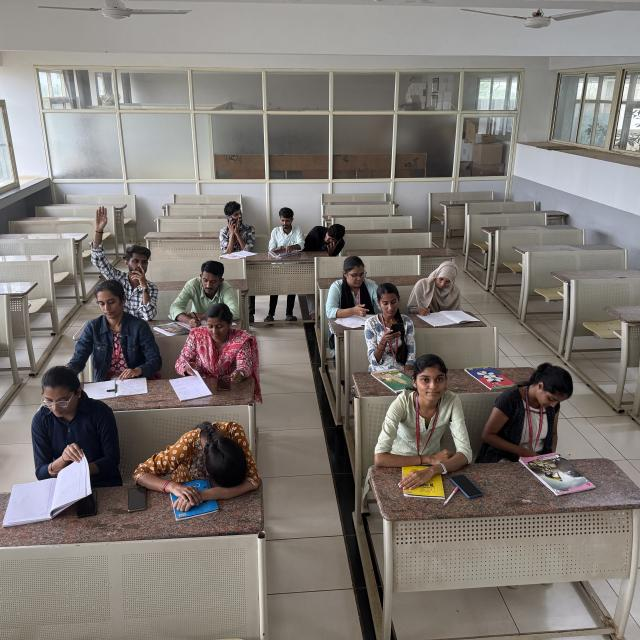Hand Rising: (88, 205, 157, 306)
Reading: (3, 368, 102, 492)
Sleeping: (157, 421, 265, 503)
Using Phone: (369, 286, 416, 363), (220, 198, 252, 254), (308, 222, 349, 255)
Writing: (167, 262, 238, 330), (409, 259, 479, 325)
